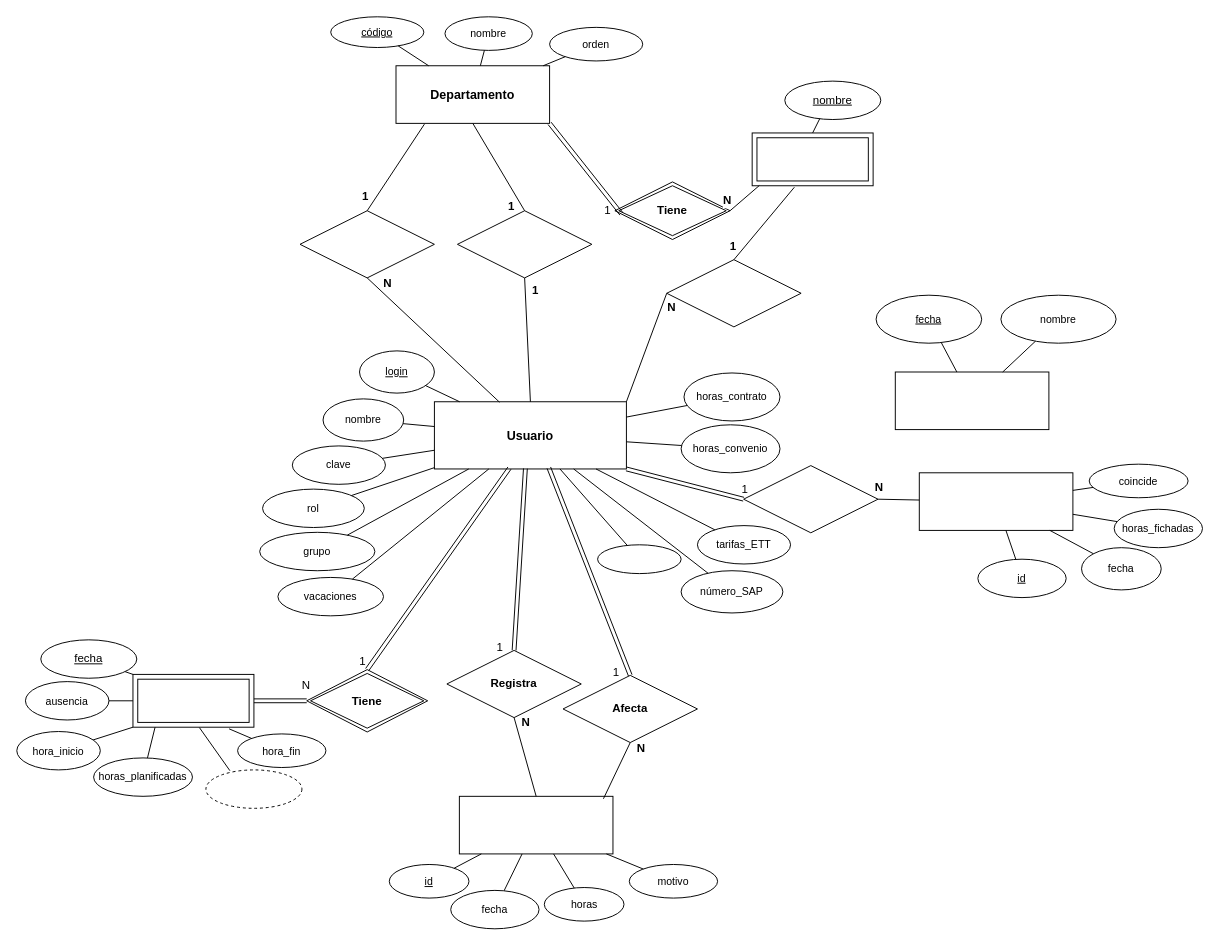
This 1220x946 diagram has some shape labels left out. The centre of each missing label's shape, as x and y in pixels:
activo: point (639, 559)
Ajuste: point (535, 824)
Asignado a: point (733, 293)
Festivo: point (971, 400)
Ficha: point (810, 499)
Fichaje: point (995, 501)
horas_nocturnas: point (253, 788)
Pertenece a: point (366, 244)
Responsable: point (524, 244)
Sección: point (812, 159)
Turno: point (193, 700)
